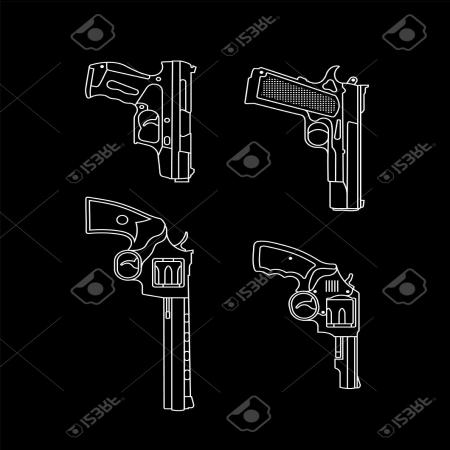Pistol: (81, 189, 199, 413), (238, 60, 374, 210), (251, 230, 371, 393), (82, 48, 200, 182)
